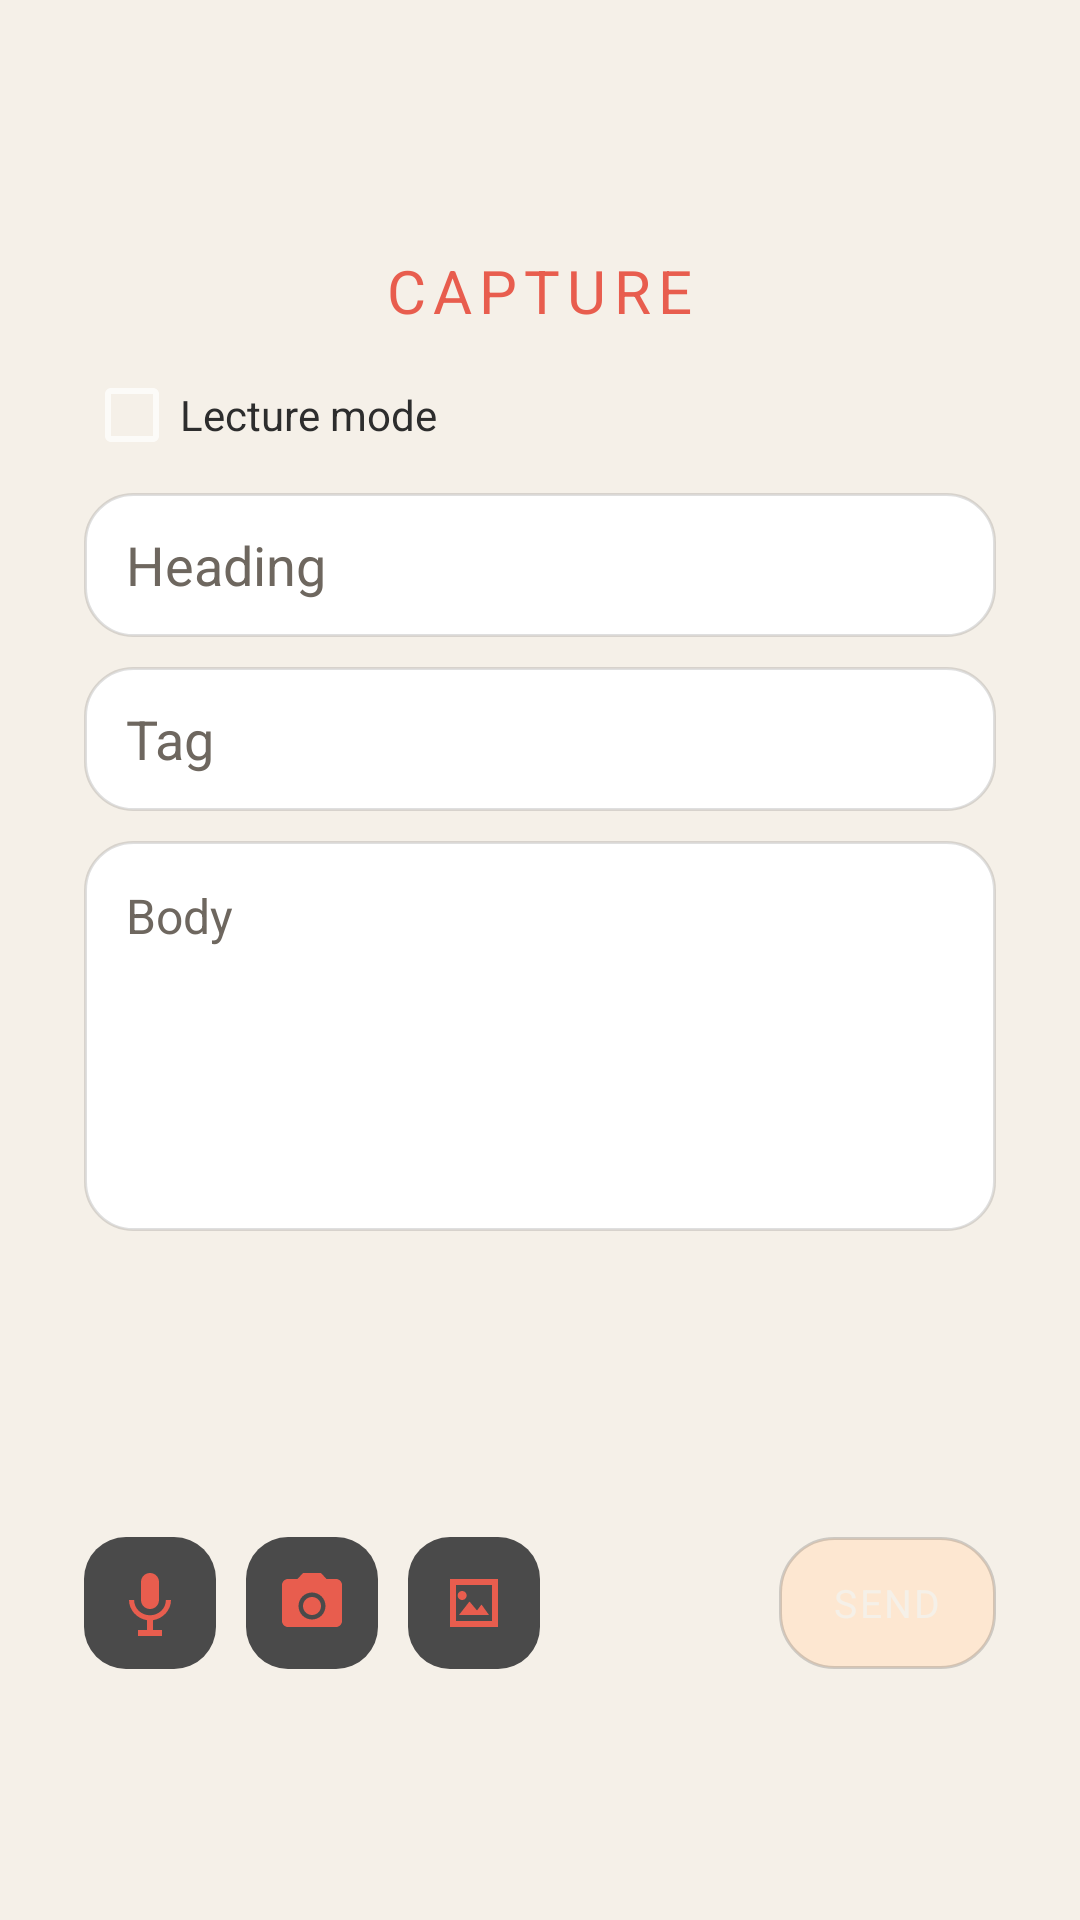

Icons on this 1080*1920 Android screen, each with the point to tap as (x,y):
Choose photo from albums: (474,1603)
Take photo: (312,1603)
Voice input: (150,1603)
